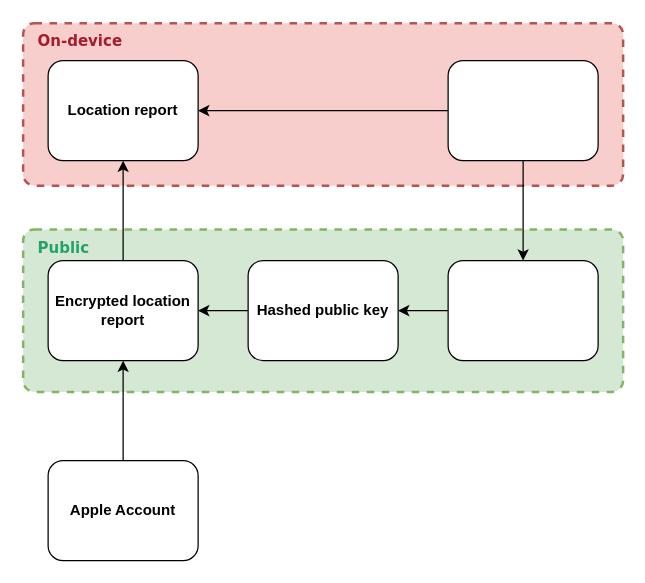
Image size: 645x583. Some labels were removed from this diagram. Each missing label, with the box of its shape:
Private key: (447, 59, 598, 161)
Public key: (447, 259, 598, 361)
